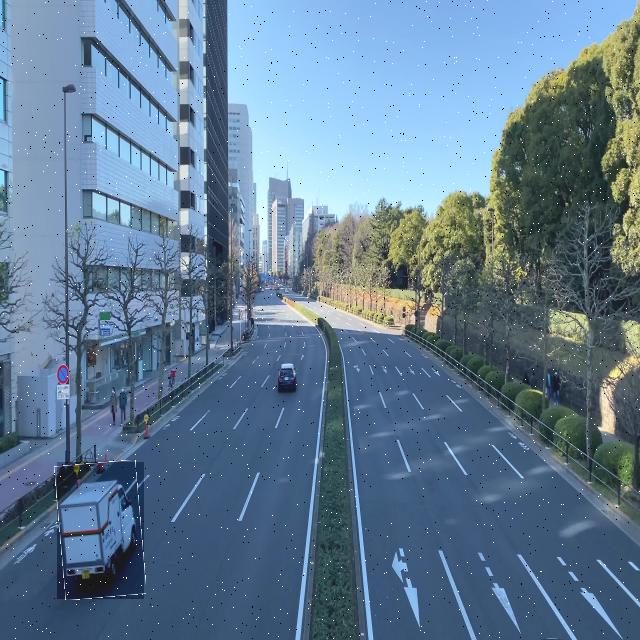Car: (273, 356, 303, 404)
Truck: (57, 462, 144, 599)
